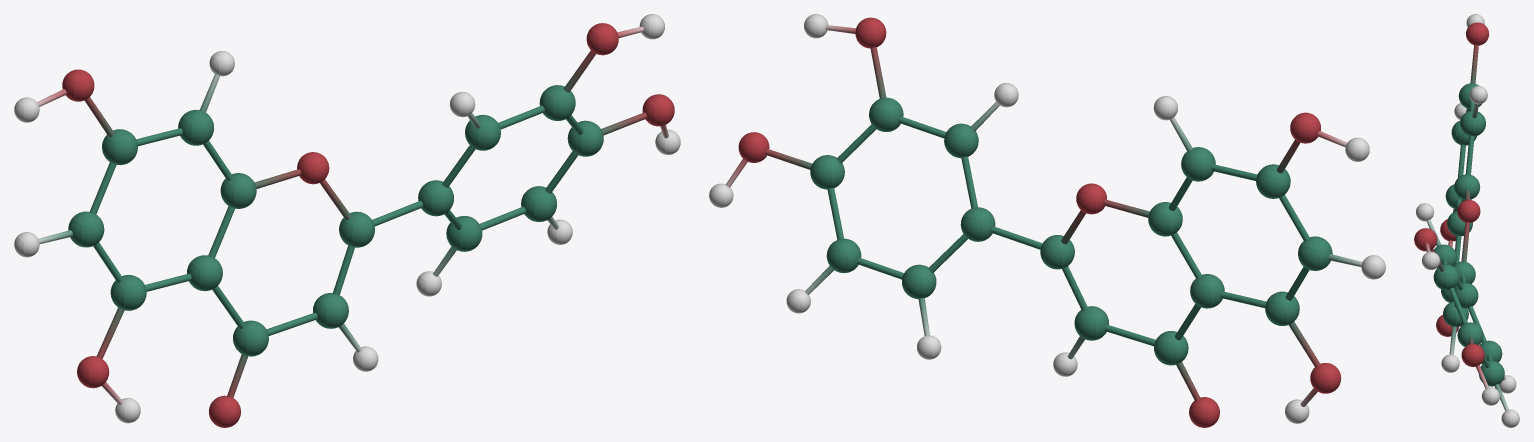
Rendered from Luteolin.fbx.
3 views of the same model, side by side, from view 1: azimuth 30°, elevation 25°; view 2: azimuth 150°, elevation 25°; view 3: azimuth 270°, elevation 25° (orthographic). The views are drawn at different scales.
Visible parts, largest first — view 1: curMeshHyperballExportedMesh; view 2: curMeshHyperballExportedMesh; view 3: curMeshHyperballExportedMesh.
Part boxes in pixels (x1,y1,x2,y2): curMeshHyperballExportedMesh: [14, 14, 680, 427]; curMeshHyperballExportedMesh: [709, 14, 1385, 427]; curMeshHyperballExportedMesh: [1414, 14, 1519, 427].
Size of the model in its own units: 12.34 by 6.42 by 2.3.
